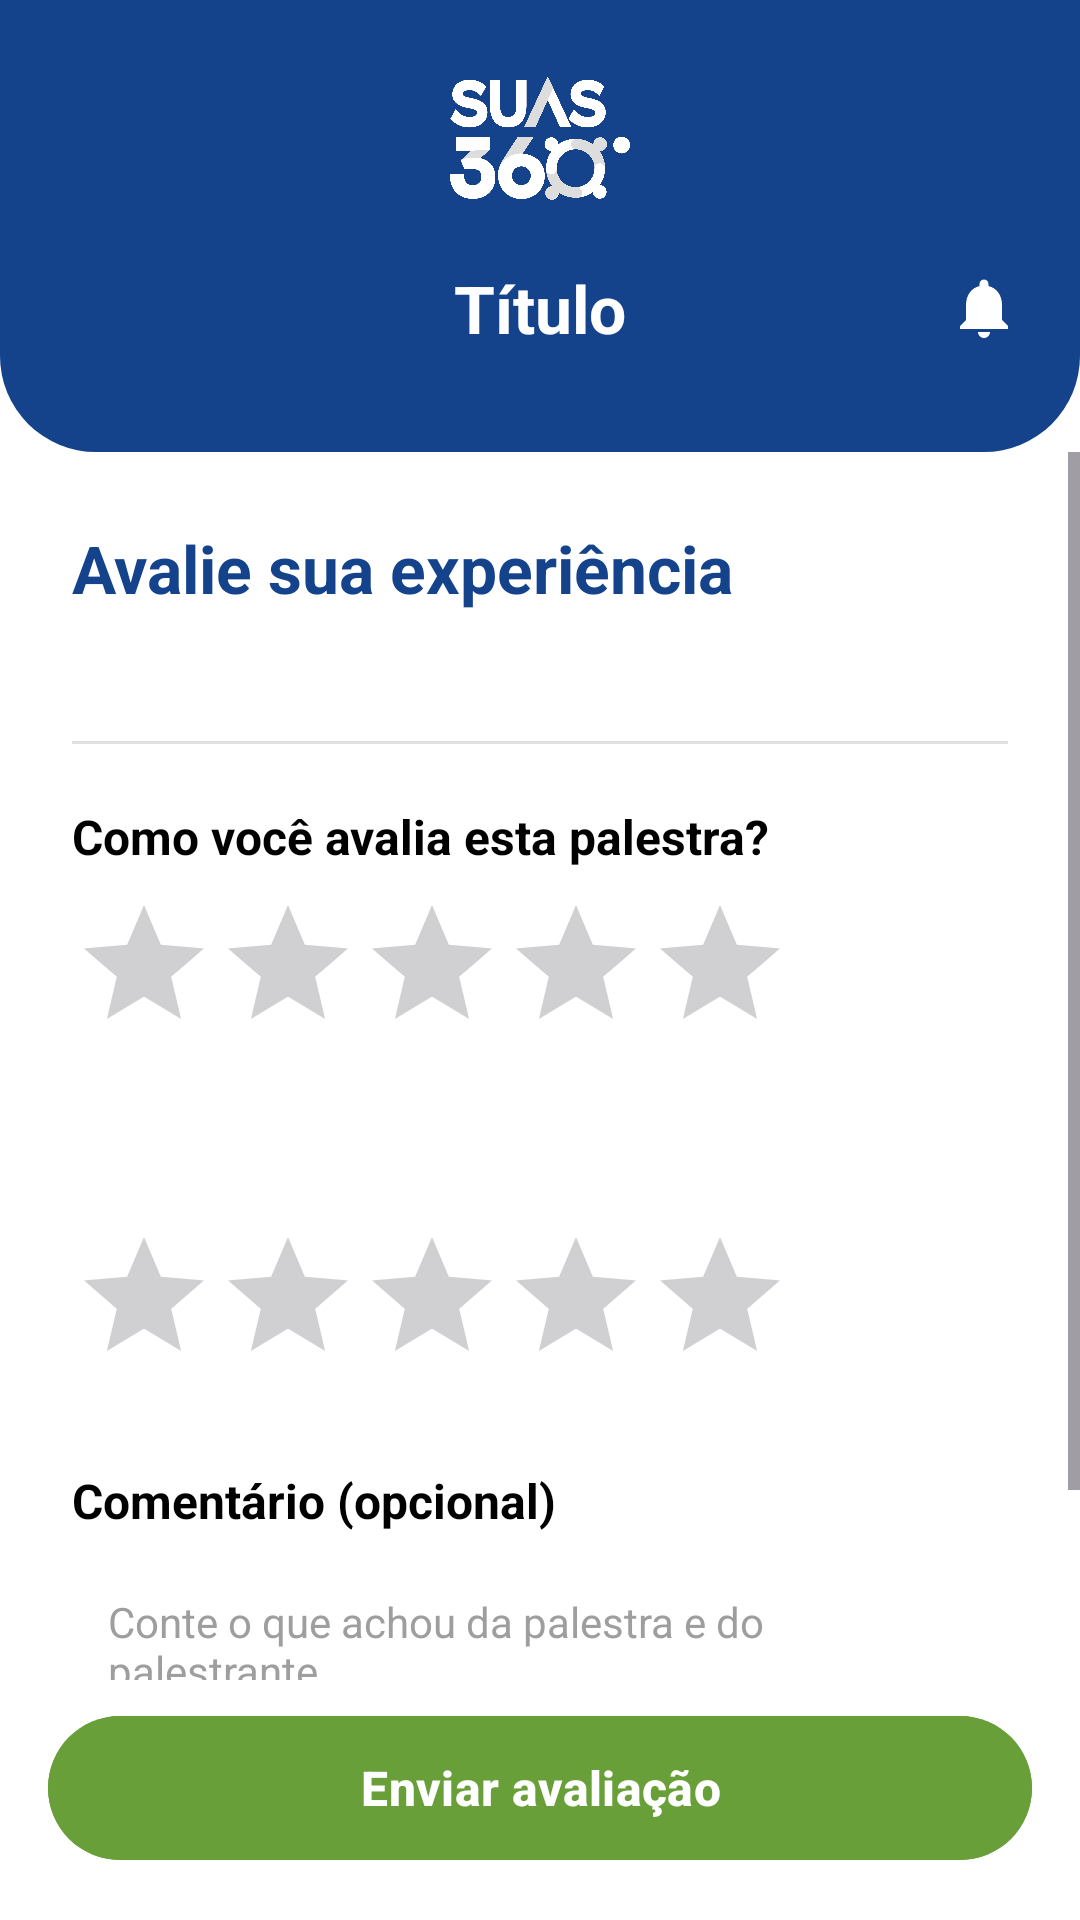

Screen size 1080w x 1920h. Icon name, then its box in pixels as (x1, y1, x2, y2):
Notificações: (960, 279, 1008, 338)
